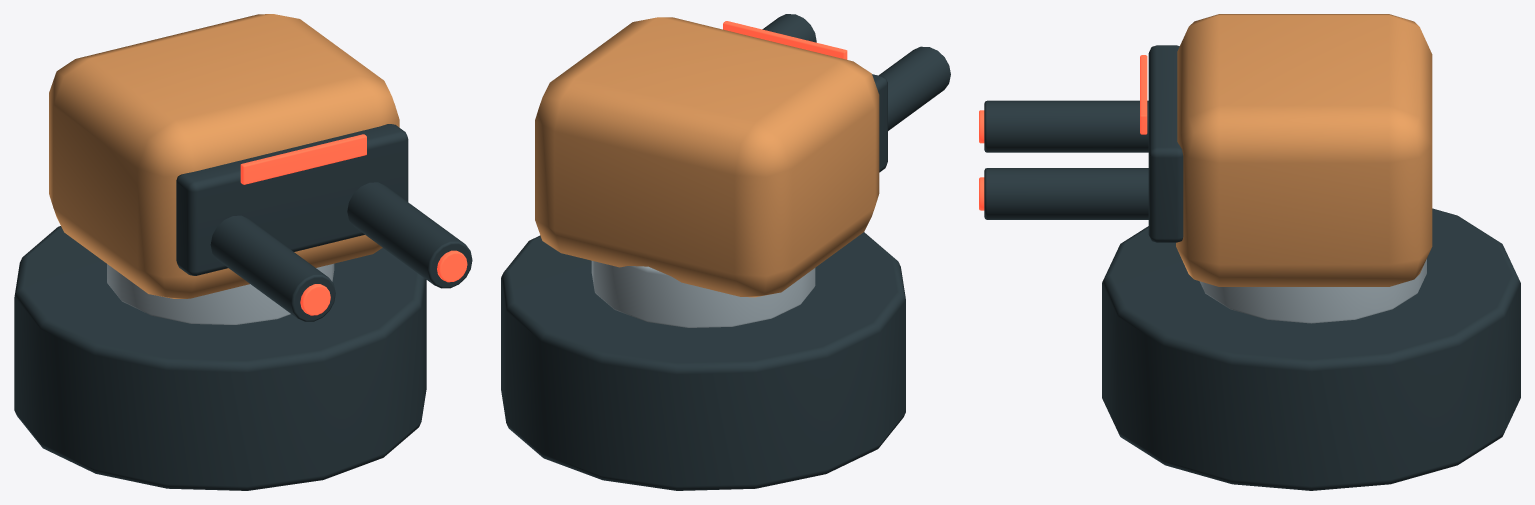
File: sentry.glb
3 views of the same model, side by side, from view 1: azimuth 30°, elevation 25°; view 2: azimuth 150°, elevation 25°; view 3: azimuth 270°, elevation 25° (orthographic). The views are drawn at different scales.
Parts seen in each view (by area): view 1: Graphite, Warm ceramic, Brushed alloy, Tail red; view 2: Graphite, Warm ceramic, Brushed alloy, Tail red; view 3: Graphite, Warm ceramic, Brushed alloy, Tail red.
Boxes of the visible parts, x1,y1,x2,y2 form: Graphite: [14, 124, 472, 490]; Warm ceramic: [49, 14, 399, 298]; Brushed alloy: [107, 263, 334, 324]; Tail red: [240, 134, 467, 315]; Graphite: [501, 14, 950, 490]; Warm ceramic: [535, 17, 879, 297]; Brushed alloy: [591, 261, 815, 327]; Tail red: [723, 21, 847, 59]; Graphite: [984, 45, 1520, 490]; Warm ceramic: [1176, 14, 1432, 286]; Brushed alloy: [1199, 259, 1426, 323]; Tail red: [979, 55, 1147, 210].
Size of the model in its own units: 1.16 by 1.05 by 1.5.
